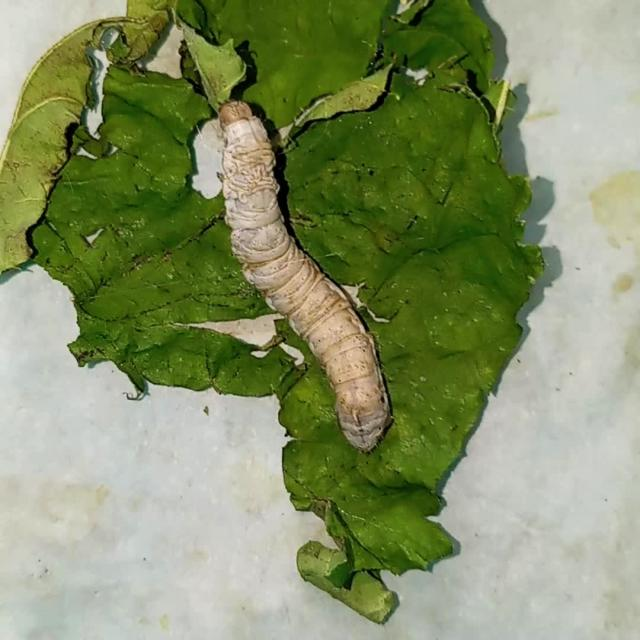Grasserie: (175, 82, 437, 470)
